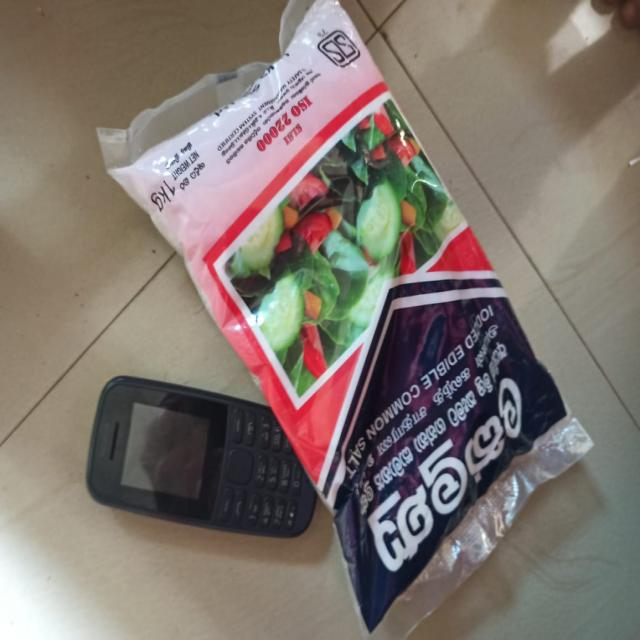Lak Lunu: (261, 2, 593, 637)
